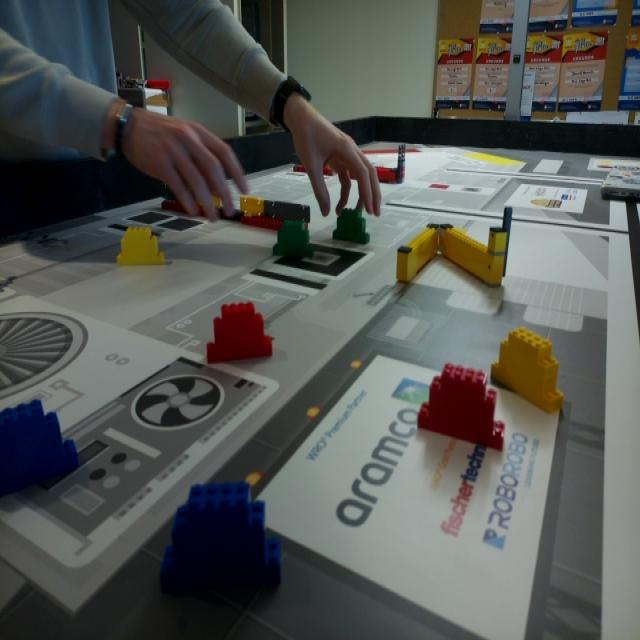blau: (164, 483, 282, 587), (0, 410, 78, 494)
gruen: (275, 219, 314, 258), (336, 207, 368, 246)
rot: (418, 358, 506, 452), (210, 302, 274, 364)
yellow: (492, 329, 563, 410), (115, 227, 165, 263)
